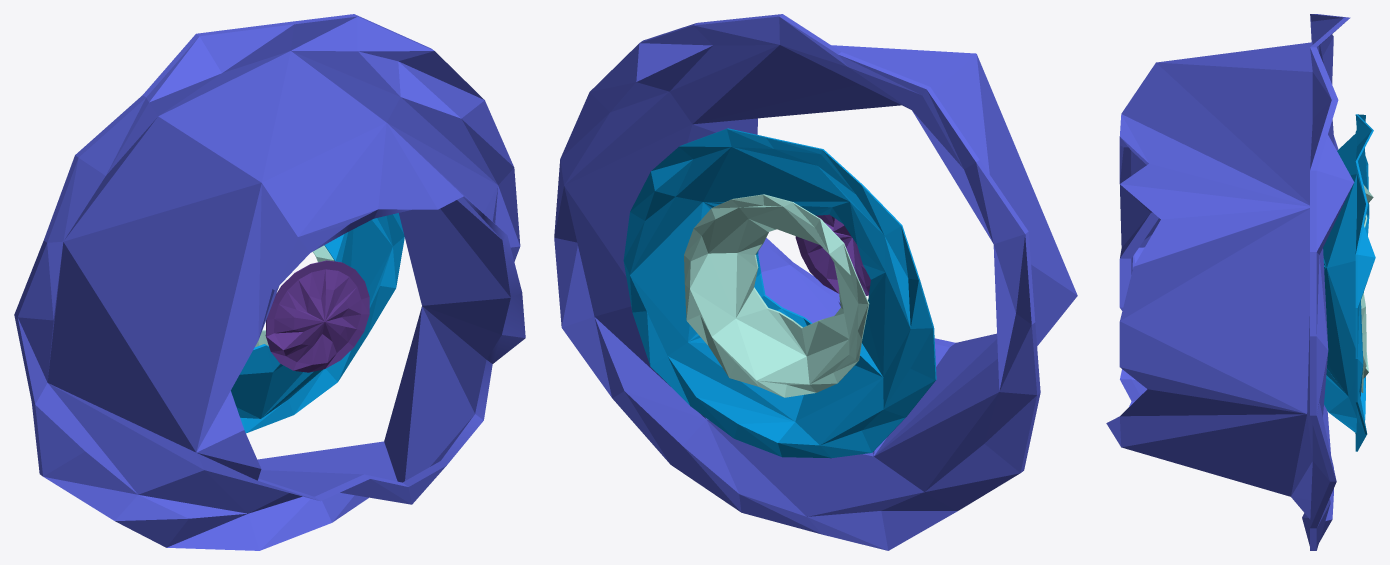
The model's file is portal_placeholder.fbx.
The picture shows the model from 3 angles, left to right: view 1: azimuth 30°, elevation 25°; view 2: azimuth 150°, elevation 25°; view 3: azimuth 270°, elevation 25°; orthographic projection. The views are drawn at different scales.
Parts seen in each view (by area): view 1: portal; view 2: portal; view 3: portal.
Part boxes in pixels (left/top/right/bottom): portal: left=14, top=14, right=525, bottom=550; portal: left=554, top=14, right=1077, bottom=550; portal: left=1106, top=14, right=1375, bottom=550.
Bounding box in the file's own units: 10.07 × 10.07 × 5.04.
